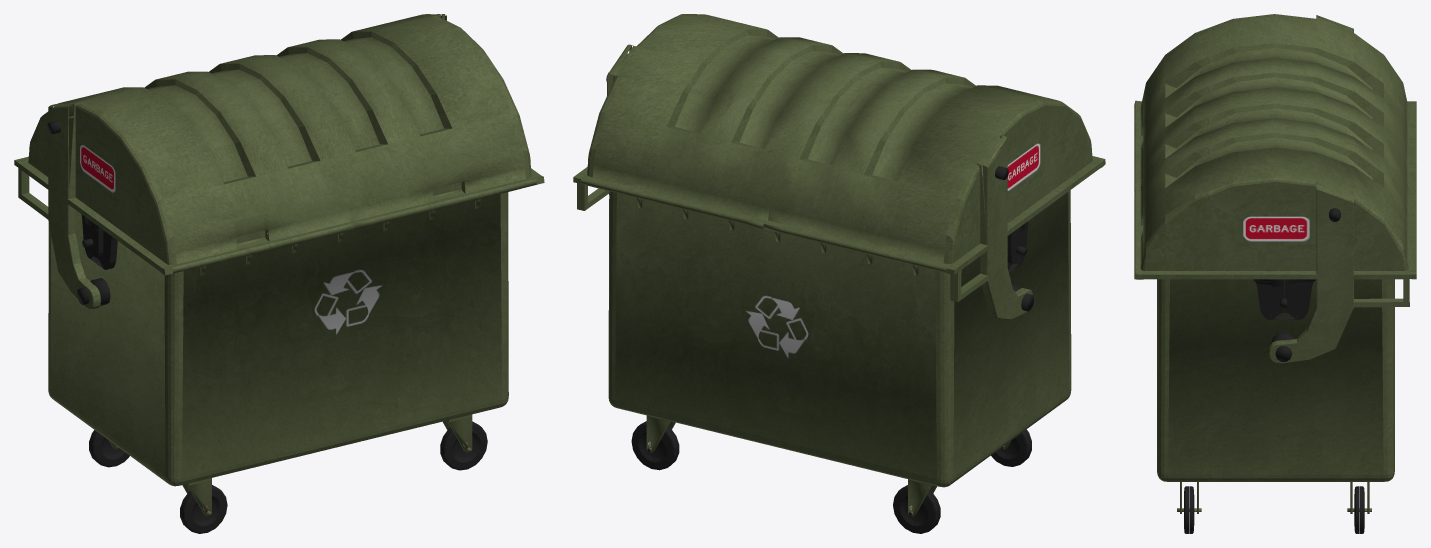
Rendered from Garbage_Bin.obj.
The picture shows the model from 3 angles, left to right: view 1: azimuth 30°, elevation 25°; view 2: azimuth 150°, elevation 25°; view 3: azimuth 270°, elevation 25°; orthographic projection. The views are drawn at different scales.
Parts seen in each view (by area): view 1: Cylinder06, Object01, Box07, Box05, Cylinder14, Box06; view 2: Cylinder06, Object01, Box08, Box06, Box05, Cylinder14; view 3: Object01, Cylinder06, Cylinder13, Box08, Box07.
Boxes of the visible parts, bbox=[...] form: Cylinder06: bbox=[48, 182, 508, 486]; Object01: bbox=[14, 14, 544, 309]; Box07: bbox=[440, 414, 487, 470]; Box05: bbox=[180, 478, 227, 533]; Cylinder14: bbox=[81, 214, 117, 269]; Box06: bbox=[89, 430, 129, 467]; Cylinder06: bbox=[608, 190, 1071, 487]; Object01: bbox=[573, 14, 1105, 319]; Box08: bbox=[631, 415, 679, 470]; Box06: bbox=[893, 479, 940, 533]; Box05: bbox=[991, 429, 1031, 466]; Cylinder14: bbox=[1007, 221, 1028, 273]; Object01: bbox=[1134, 14, 1416, 363]; Cylinder06: bbox=[1157, 279, 1394, 481]; Cylinder13: bbox=[1253, 279, 1315, 319]; Box08: bbox=[1347, 482, 1371, 533]; Box07: bbox=[1177, 482, 1201, 533].
Bounding box in the file's own units: 2.72 × 2.62 × 1.8.
2 materials, 1 textured.
